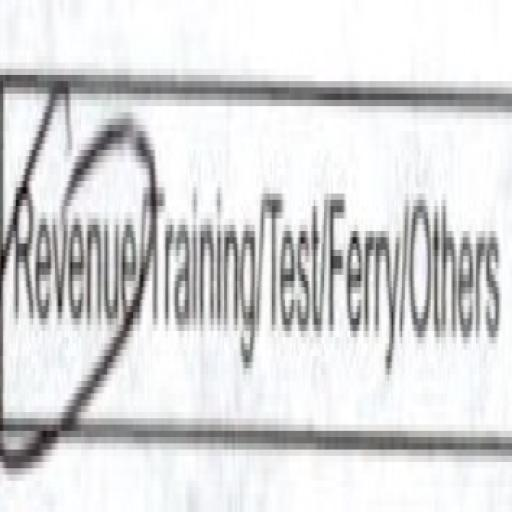check: (0, 49, 137, 499)
